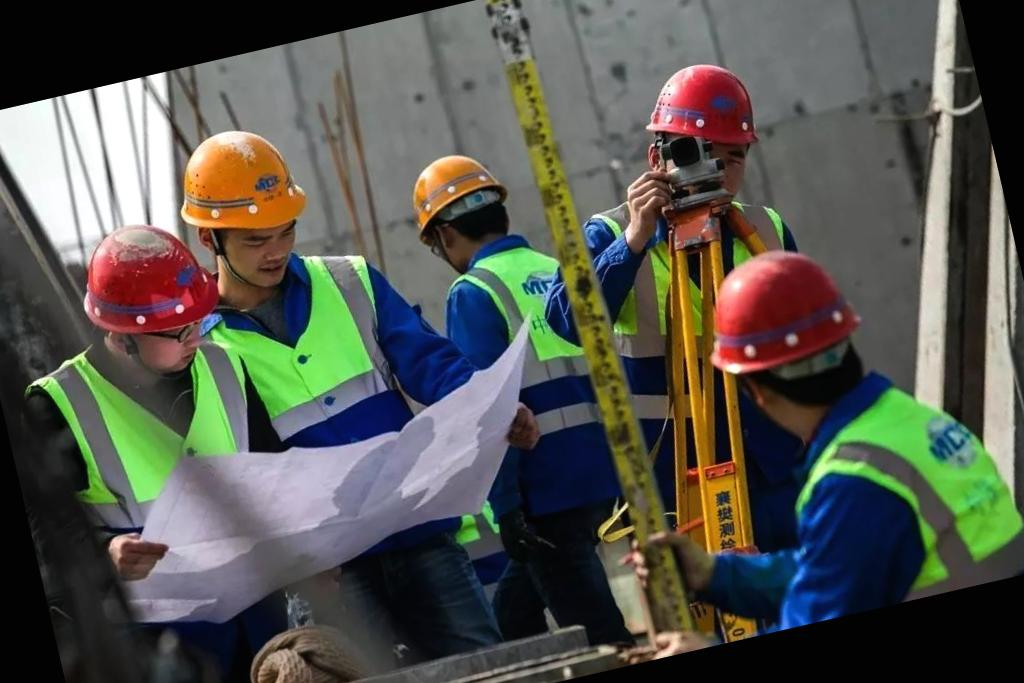helmet: (48, 196, 227, 359), (689, 242, 870, 386), (168, 108, 320, 252), (626, 46, 768, 183), (398, 144, 522, 258)
person: (396, 124, 690, 651), (15, 199, 326, 683), (683, 212, 1024, 633), (165, 87, 478, 462)
